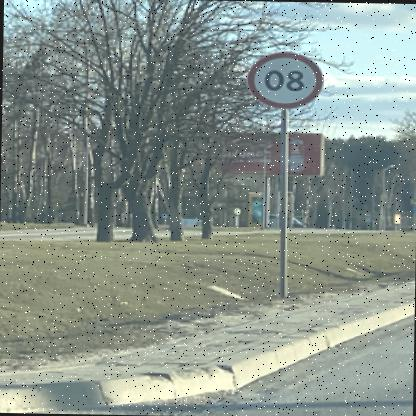speedlimit: (248, 49, 326, 108)
